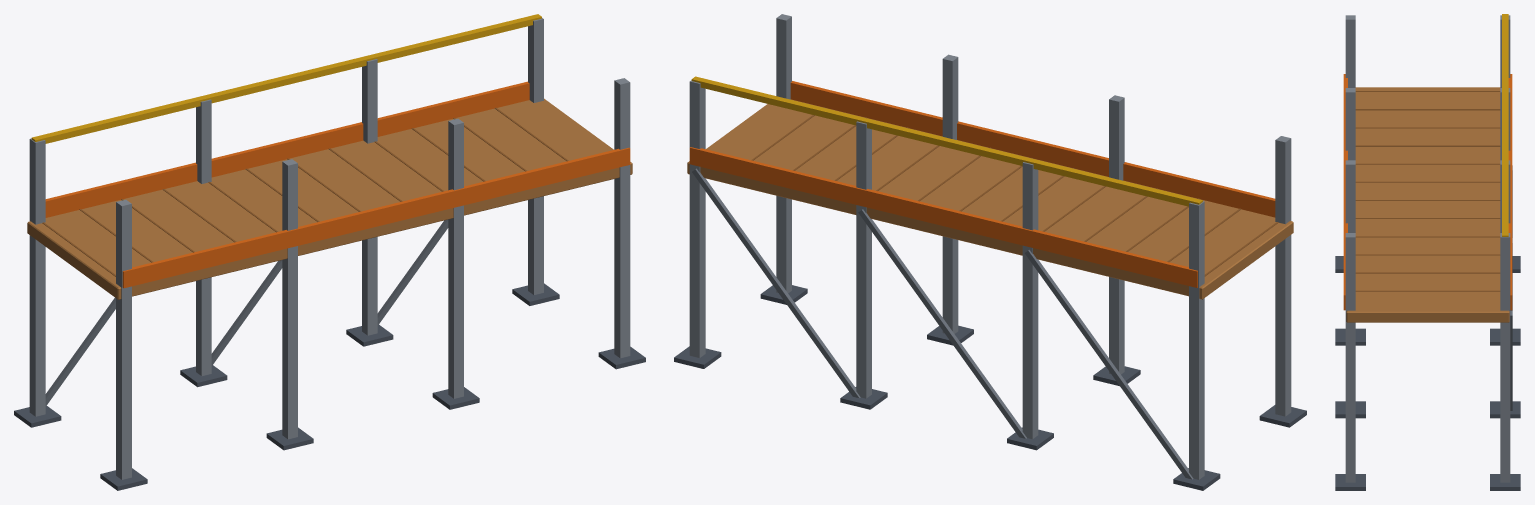
File: scaffold3.glb
The picture shows the model from 3 angles, left to right: view 1: azimuth 30°, elevation 25°; view 2: azimuth 150°, elevation 25°; view 3: azimuth 270°, elevation 25°; orthographic projection. The views are drawn at different scales.
Visible parts, largest first — view 1: scaffold3; view 2: scaffold3; view 3: scaffold3.
Part boxes in pixels (x1=…): scaffold3: x1=14, y1=14, x2=645, y2=490; scaffold3: x1=674, y1=14, x2=1306, y2=490; scaffold3: x1=1335, y1=14, x2=1520, y2=490.
Size of the model in its own units: 6.36 by 3.24 by 2.16.
